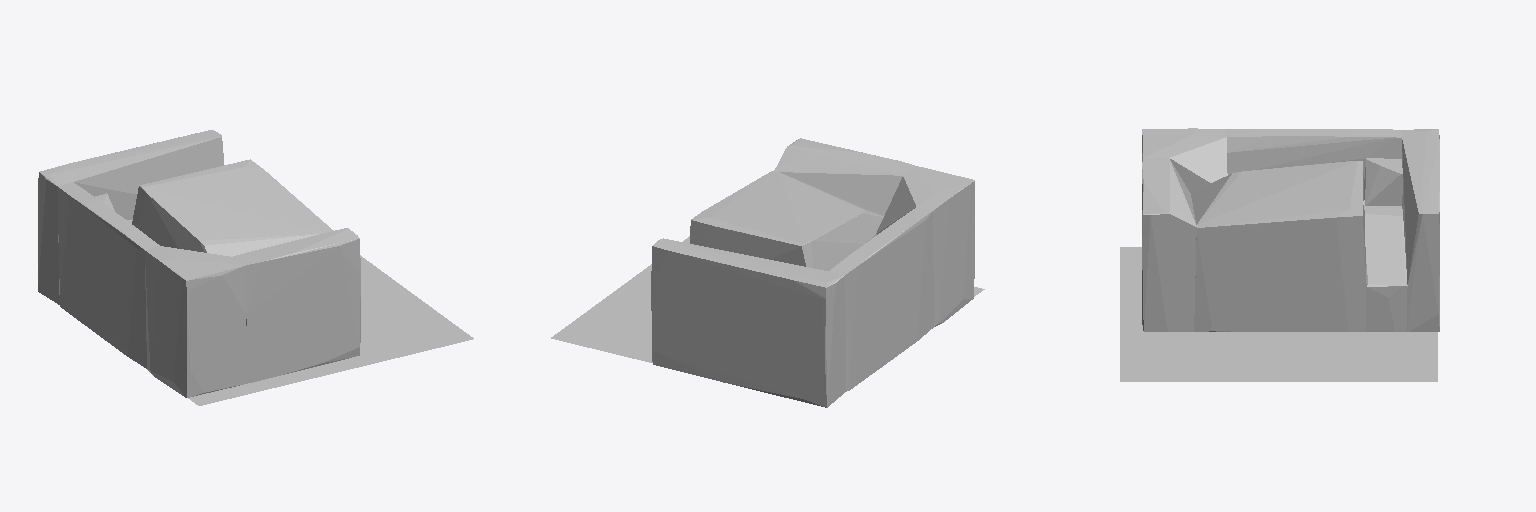
3 views of the same model, side by side, from view 1: azimuth 30°, elevation 25°; view 2: azimuth 150°, elevation 25°; view 3: azimuth 270°, elevation 25° (orthographic).
Parts seen in each view (by area): view 1: Shape_IndexedFaceSet.002, Shape_IndexedFaceSet.001, Shape_IndexedFaceSet.004, Shape_IndexedFaceSet.003, Shape_IndexedFaceSet, group_0_ID4; view 2: Shape_IndexedFaceSet, Shape_IndexedFaceSet.004, Shape_IndexedFaceSet.003, Shape_IndexedFaceSet.001, Shape_IndexedFaceSet.002, group_0_ID4; view 3: Shape_IndexedFaceSet.004, group_0_ID4, Shape_IndexedFaceSet.002, Shape_IndexedFaceSet, Shape_IndexedFaceSet.003, Shape_IndexedFaceSet.005, Shape_IndexedFaceSet.001, Shape_IndexedFaceSet.007.
Boxes of the visible parts, x1,y1,x2,y2 form: Shape_IndexedFaceSet.002: [233, 228, 360, 383]; Shape_IndexedFaceSet.001: [145, 246, 246, 397]; Shape_IndexedFaceSet.004: [132, 159, 333, 256]; Shape_IndexedFaceSet.003: [57, 182, 159, 368]; Shape_IndexedFaceSet: [38, 130, 223, 304]; group_0_ID4: [188, 255, 473, 405]; Shape_IndexedFaceSet: [651, 238, 845, 407]; Shape_IndexedFaceSet.004: [690, 171, 883, 270]; Shape_IndexedFaceSet.003: [829, 207, 933, 391]; Shape_IndexedFaceSet.001: [876, 166, 974, 326]; Shape_IndexedFaceSet.002: [774, 138, 914, 215]; group_0_ID4: [551, 236, 984, 362]; Shape_IndexedFaceSet.004: [1191, 161, 1366, 331]; group_0_ID4: [1120, 247, 1437, 381]; Shape_IndexedFaceSet.002: [1142, 158, 1196, 331]; Shape_IndexedFaceSet: [1401, 129, 1439, 331]; Shape_IndexedFaceSet.003: [1226, 129, 1401, 178]; Shape_IndexedFaceSet.005: [1364, 206, 1407, 331]; Shape_IndexedFaceSet.001: [1142, 128, 1227, 192]; Shape_IndexedFaceSet.007: [1364, 158, 1402, 205].
Bounding box in the file's own units: 15.33 × 6.34 × 15.33.